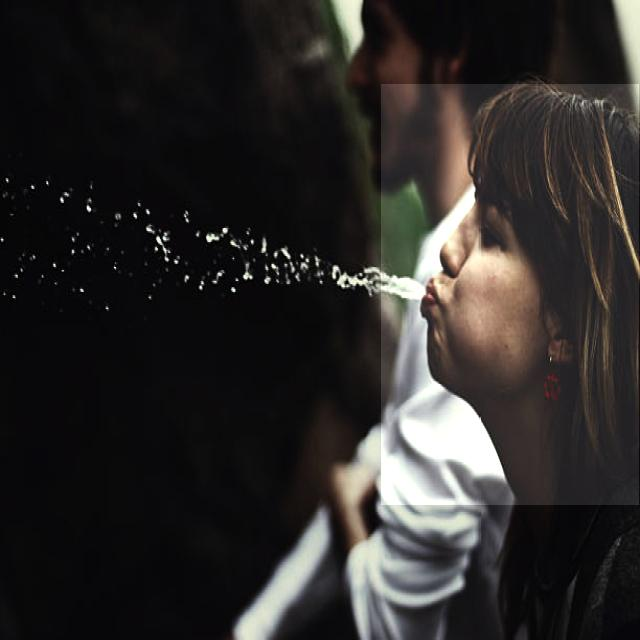Spitting: (381, 84, 639, 505)
